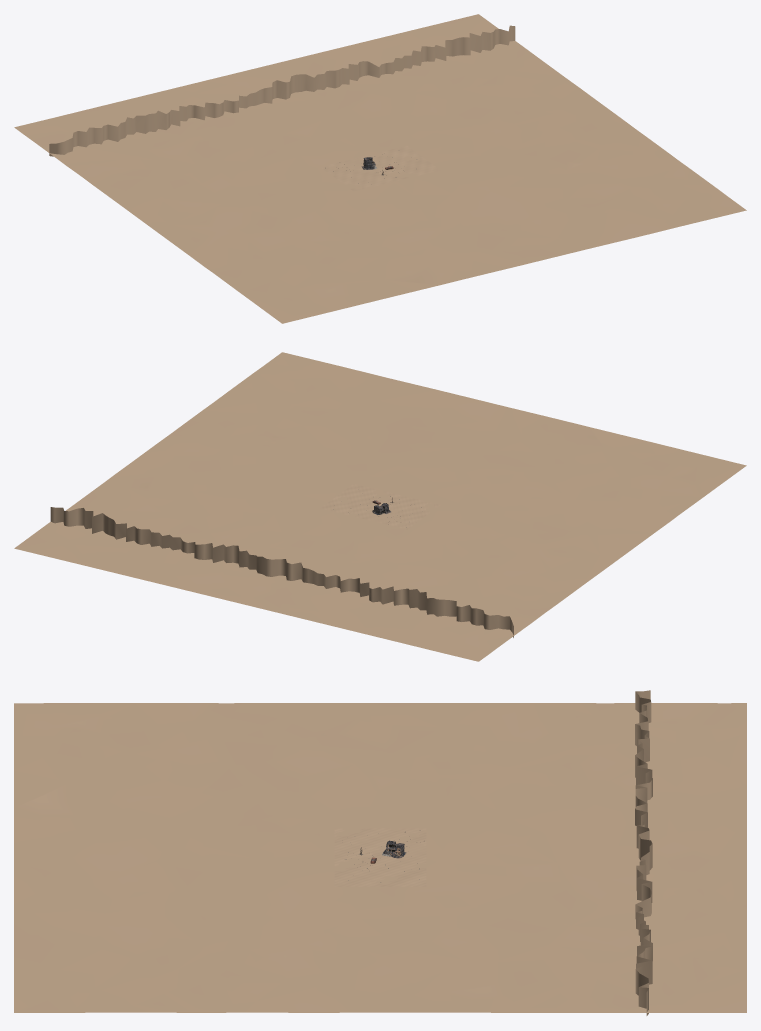
Rendered from wasteland_scene.glb.
The picture shows the model from 3 angles, top to bottom: view 1: azimuth 30°, elevation 25°; view 2: azimuth 150°, elevation 25°; view 3: azimuth 270°, elevation 25°; orthographic projection. The views are drawn at different scales.
Visible parts, largest first — view 1: wst_terrain_ground_far, wst_bg_ridge_01, wst_terrain_ground; view 2: wst_terrain_ground_far, wst_bg_ridge_01, wst_terrain_ground; view 3: wst_terrain_ground_far, wst_bg_ridge_01, wst_terrain_ground.
Part boxes in pixels (x1,y1,x2,y2): wst_terrain_ground_far: (14,14,746,323); wst_bg_ridge_01: (49,25,515,156); wst_terrain_ground: (320,146,440,191); wst_terrain_ground_far: (14,352,746,661); wst_bg_ridge_01: (50,507,513,637); wst_terrain_ground: (320,484,440,529); wst_terrain_ground_far: (14,703,746,1012); wst_bg_ridge_01: (635,690,652,1015); wst_terrain_ground: (334,828,426,886).
Bounding box in the file's own units: 320 × 14.14 × 320.
Materials: 6 (3 with a texture image).
